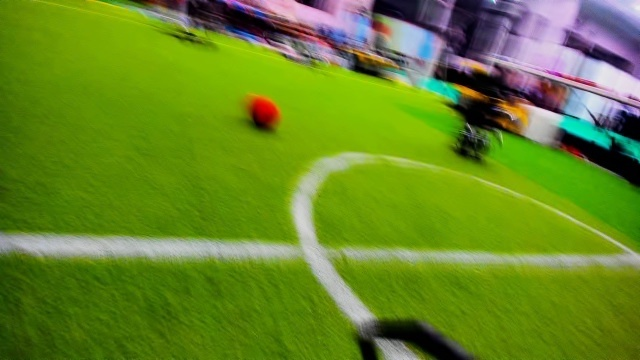ball: (243, 93, 282, 135)
eros: (448, 87, 510, 171)
x_line: (242, 190, 393, 309)
